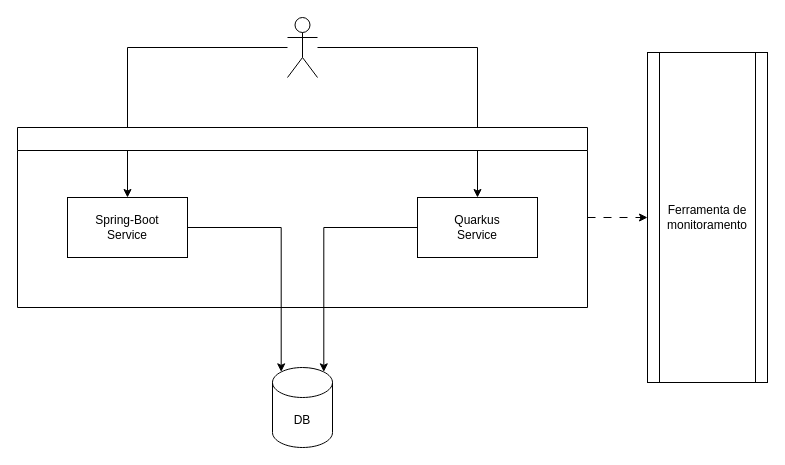
Some shapes in this 785 by 465 pixel diagram are drawn without their labels. The shapes that lost their labels are listed below. From the top down, each one's centre as x and y in pixels, then its label:
(302,47): Actor
(302,217): Mini cluster
